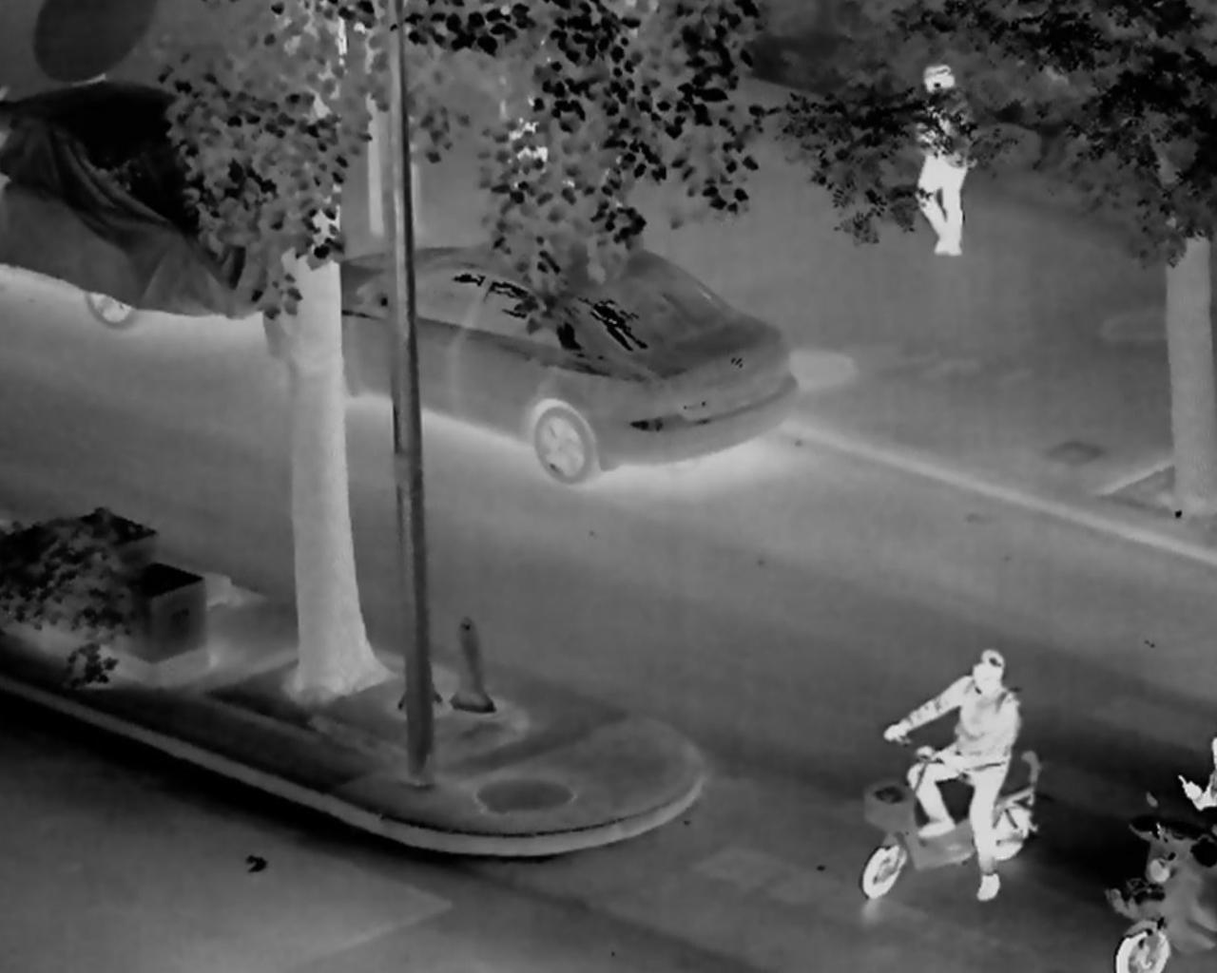person: (881, 649, 1024, 902), (907, 66, 975, 258), (1174, 735, 1217, 809)
